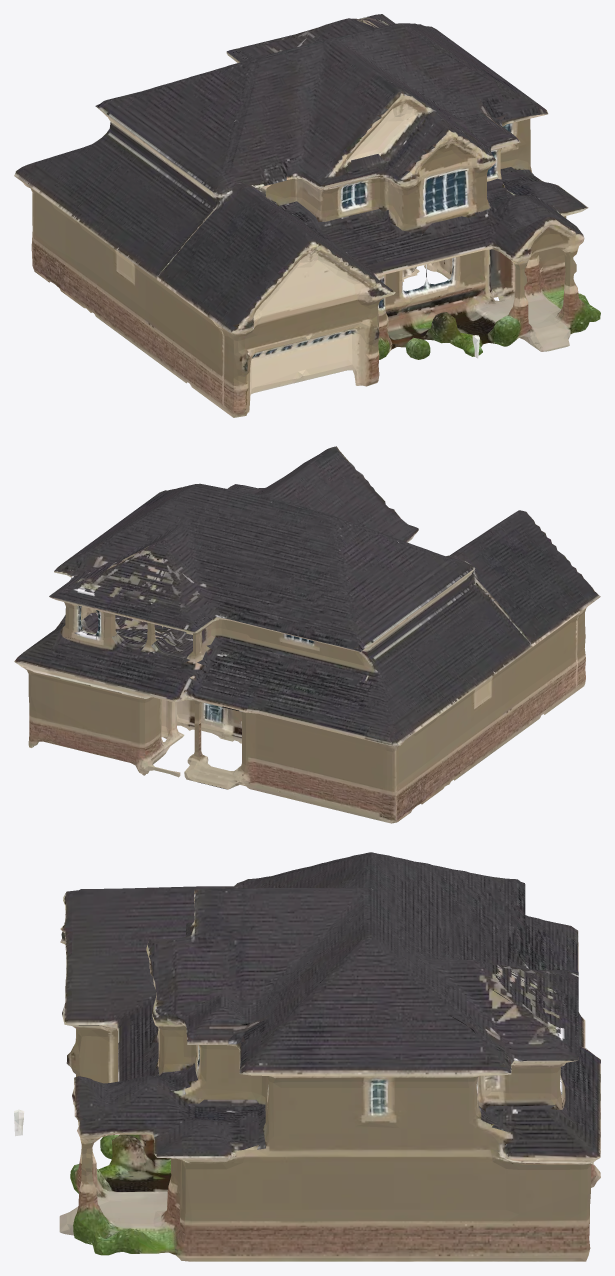
The model's file is dream-villa.glb.
The picture shows the model from 3 angles, top to bottom: view 1: azimuth 30°, elevation 25°; view 2: azimuth 150°, elevation 25°; view 3: azimuth 270°, elevation 25°; orthographic projection. The views are drawn at different scales.
Visible parts, largest first — view 1: Building; view 2: Building; view 3: Building.
Boxes of the visible parts, left/top/right/bottom form: Building: left=14, top=14, right=600, bottom=417; Building: left=14, top=446, right=600, bottom=823; Building: left=14, top=852, right=600, bottom=1261.
Size of the model in its own units: 1.73 by 1 by 1.88.
Materials: 1 (1 with a texture image).
